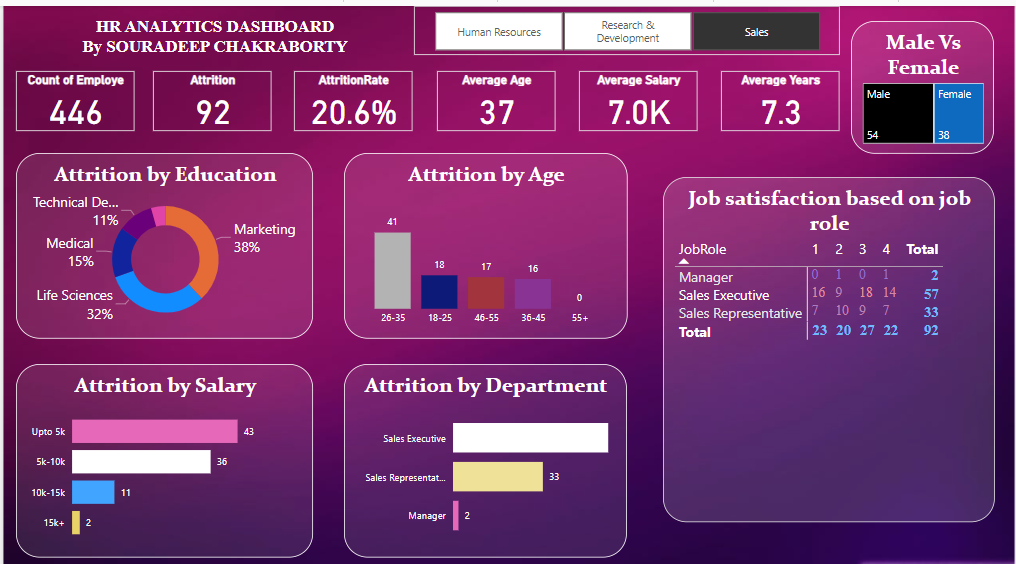

This screenshot's page, from the dashboard's own definition file:
{"tool":"powerbi","page":{"name":"Page 1","canvas":[1280,720],"ordinal":0},"visuals":[{"type":"card","title":"Count of Employe","fields":{"Values":["CountNonNull(HR_Analytics.EmpID)"]},"box":[16.8,82.3,149.5,75.6],"z":0},{"type":"card","title":"Attrition","fields":{"Values":["Sum(HR_Analytics.AttritionCount)"]},"box":[189.8,82.3,149.5,75.6],"z":1000},{"type":"card","title":"Average Age","fields":{"Values":["Avg(HR_Analytics.Age)"]},"box":[549.3,82.3,149.5,75.6],"z":2000},{"type":"card","title":"AttritionRate","fields":{"Values":["HR_Analytics.AttritionRate"]},"box":[367.9,82.3,149.5,75.6],"z":3000},{"type":"card","title":"Average Salary","fields":{"Values":["Avg(HR_Analytics.MonthlyIncome)"]},"box":[729,82.3,149.5,75.6],"z":4000},{"type":"card","title":"Average Years","fields":{"Values":["Avg(HR_Analytics.YearsAtCompany)"]},"box":[908.8,82.3,149.5,75.6],"z":5000},{"type":"donutChart","title":"Attrition by Education","fields":{"Category":["HR_Analytics.EducationField"],"Y":["Sum(HR_Analytics.AttritionCount)"]},"box":[16.8,186.5,376.3,235.2],"z":6000},{"type":"columnChart","title":"Attrition by Age","fields":{"Category":["HR_Analytics.AgeGroup"],"Y":["Sum(HR_Analytics.AttritionCount)"]},"box":[431.7,186.5,359.5,235.2],"z":7000},{"type":"pivotTable","title":"Job satisfaction based on job role","fields":{"Rows":["HR_Analytics.JobRole"],"Columns":["HR_Analytics.JobSatisfaction"],"Values":["Sum(HR_Analytics.AttritionCount)"]},"box":[834.9,250.3,419.9,341],"z":8000},{"type":"barChart","title":"Attrition by Salary","fields":{"Category":["HR_Analytics.SalarySlab"],"Y":["Sum(HR_Analytics.AttritionCount)"]},"box":[16.8,453.5,376.3,245.2],"z":9000},{"type":"barChart","title":"Attrition by Department ","fields":{"Category":["HR_Analytics.JobRole"],"Y":["Sum(HR_Analytics.AttritionCount)"]},"box":[431.7,453.5,357.8,245.2],"z":10000},{"type":"slicer","fields":{"Values":["HR_Analytics.Department"]},"box":[520.7,0,539.2,62.2],"z":11000},{"type":"treemap","title":"Male Vs Female","fields":{"Group":["HR_Analytics.Gender"],"Values":["Sum(HR_Analytics.AttritionCount)"]},"box":[1073.4,18.5,181.4,211.7],"z":12000},{"type":"textbox","box":[16.8,18.5,500.6,43.7],"z":12001}]}

Visuals, with their boxes in screenshot pixels (x1, y1, x2, y2), scaled from the page's 1280x720 canvas onto the 1016x564 screenshot:
"Count of Employe" card: 13, 64, 132, 124
"Attrition" card: 151, 64, 269, 124
"Average Age" card: 436, 64, 555, 124
"AttritionRate" card: 292, 64, 411, 124
"Average Salary" card: 579, 64, 697, 124
"Average Years" card: 721, 64, 840, 124
"Attrition by Education" donutChart: 13, 146, 312, 330
"Attrition by Age" columnChart: 343, 146, 628, 330
"Job satisfaction based on job role" pivotTable: 663, 196, 996, 463
"Attrition by Salary" barChart: 13, 355, 312, 547
"Attrition by Department " barChart: 343, 355, 627, 547
slicer - HR_Analytics.Department: 413, 0, 841, 49
"Male Vs Female" treemap: 852, 14, 996, 180
textbox: 13, 14, 411, 49
